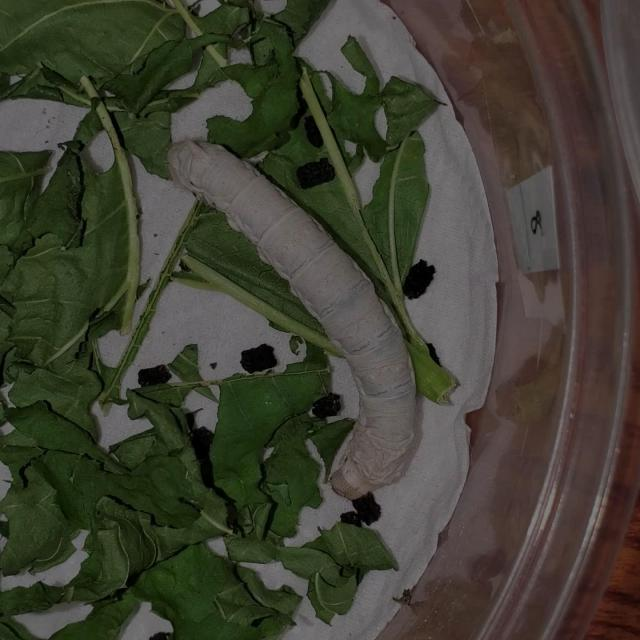Healthy: (161, 129, 422, 504)
